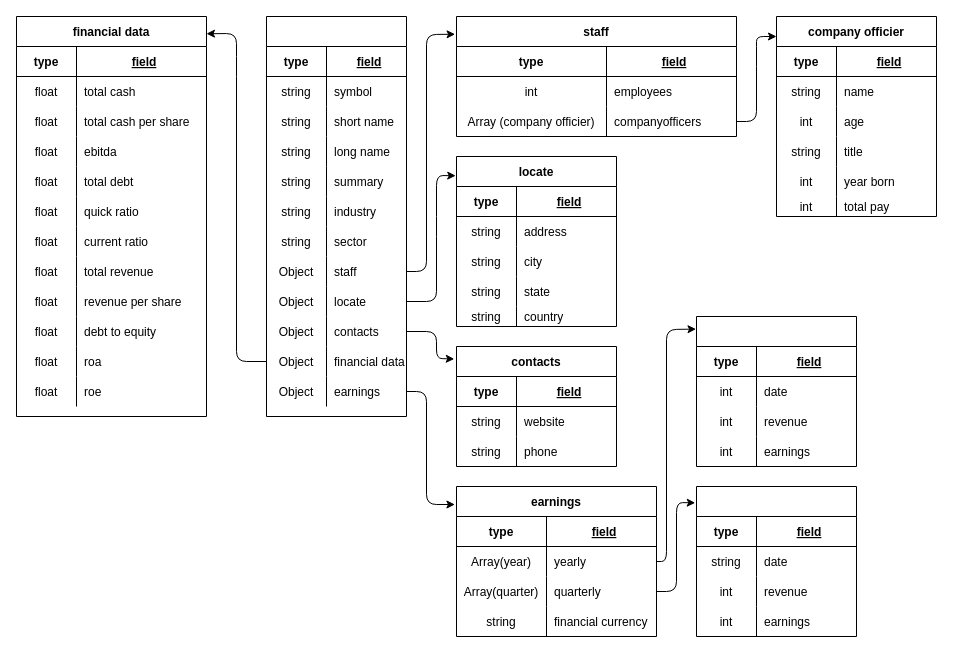
This 953x653 diagram has some shape labels left out. The box of each missing label's shape, as (x1, y1, x2, y2) in pixels:
companies: (266, 16, 406, 416)
quarter: (696, 486, 856, 636)
year: (696, 316, 856, 466)
